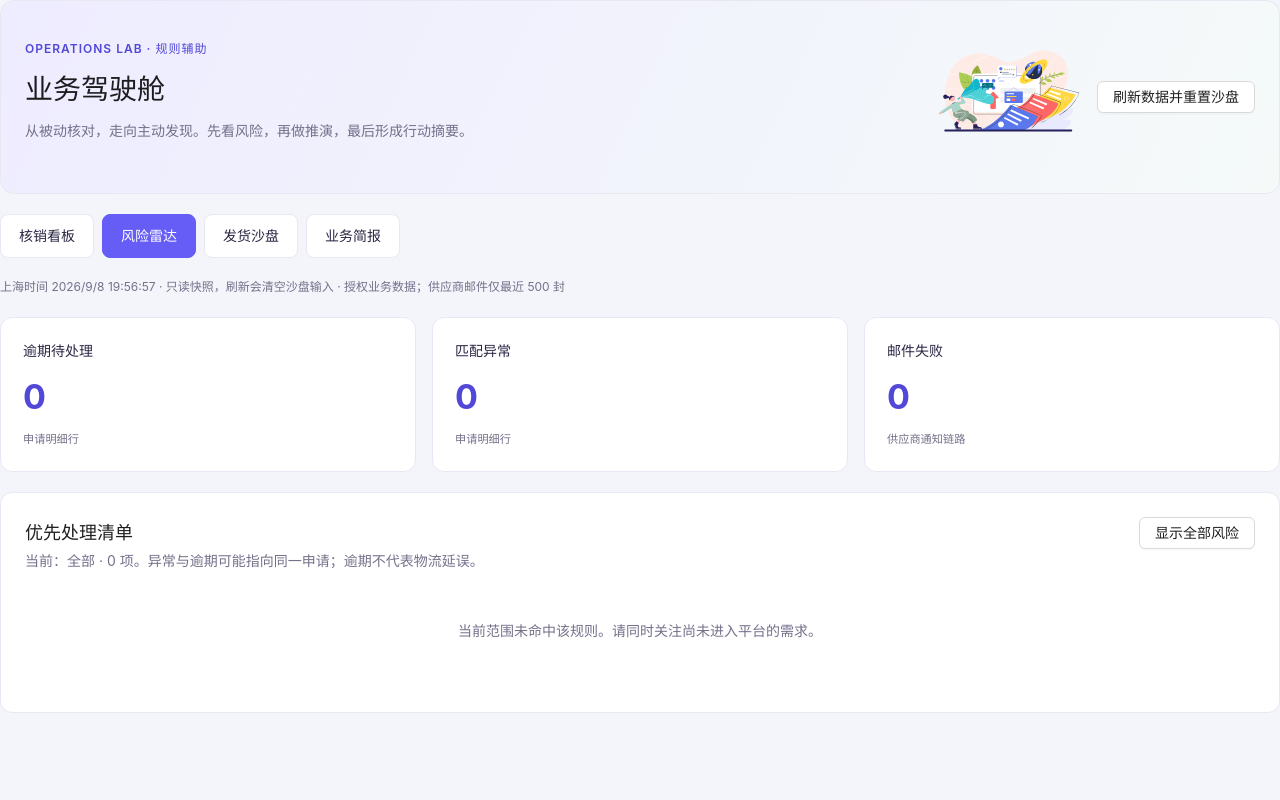
Test case: 业务驾驶舱 › simulates independent order identities and keeps hidden rows in its summary
Click the button "发货沙盘" at x=251, y=236, box [204, 214, 298, 258]
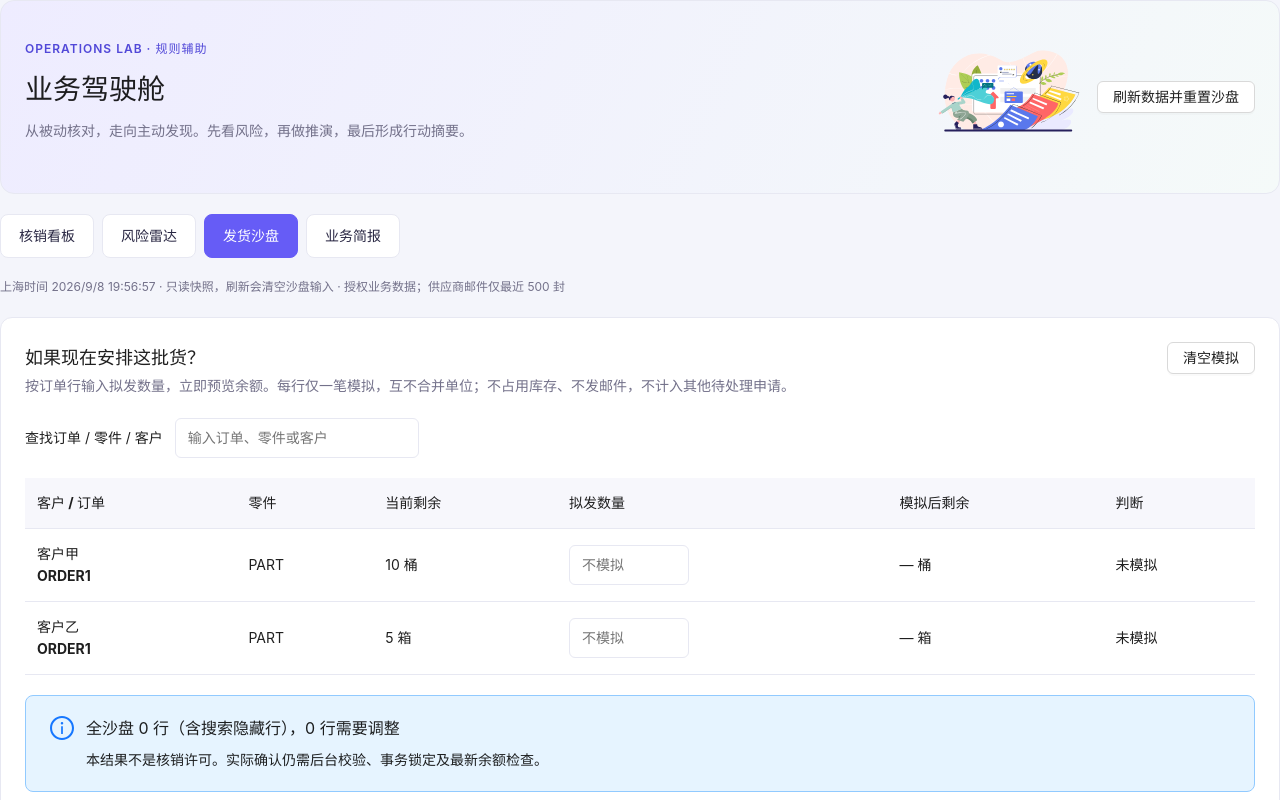
Type "11" into the field named "订单行 1 拟发数量" at x=629, y=565, box [569, 545, 689, 585]
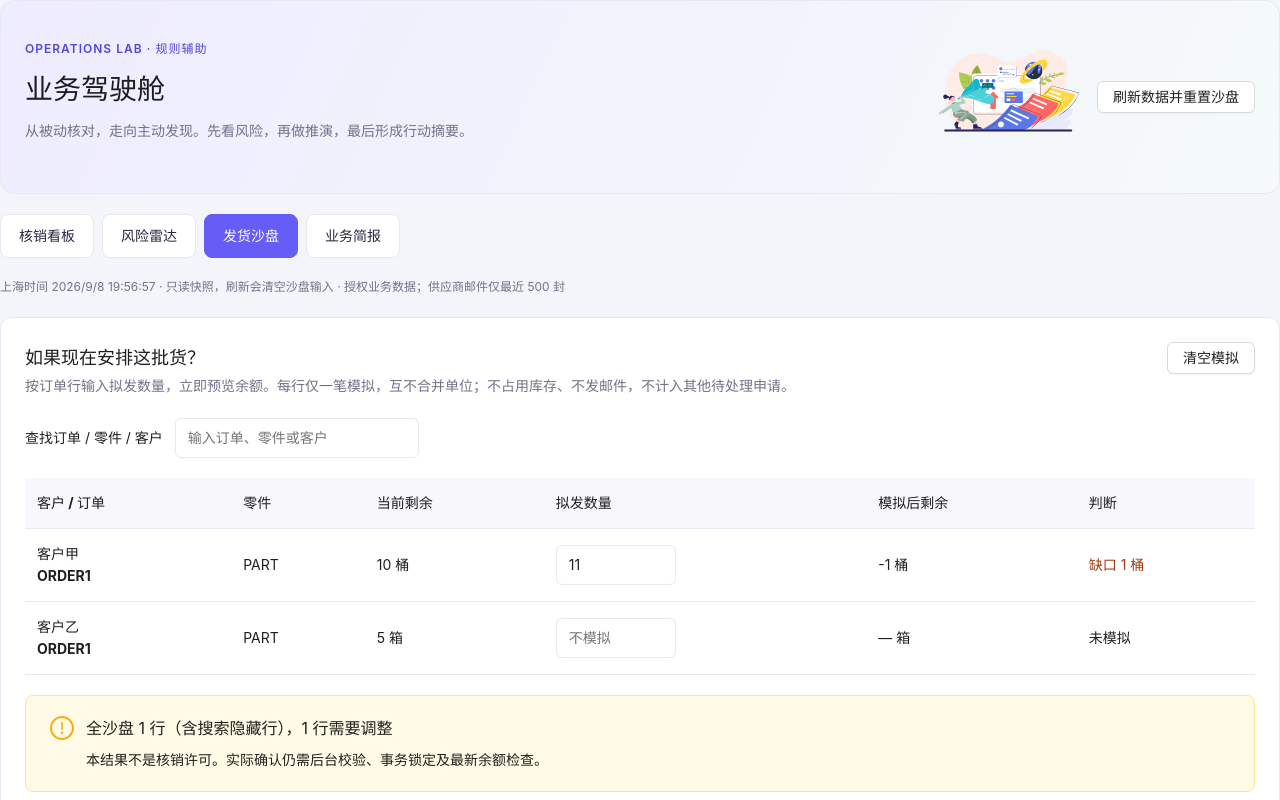
Now the field named "订单行 2 拟发数量" is empty, box [556, 618, 676, 658]
Now the text "缺口 1 桶" is shown, box [1089, 556, 1144, 573]
Type "客户乙" into the field with placeholder "输入订单、零件或客户" at x=297, y=438, box [175, 418, 419, 458]
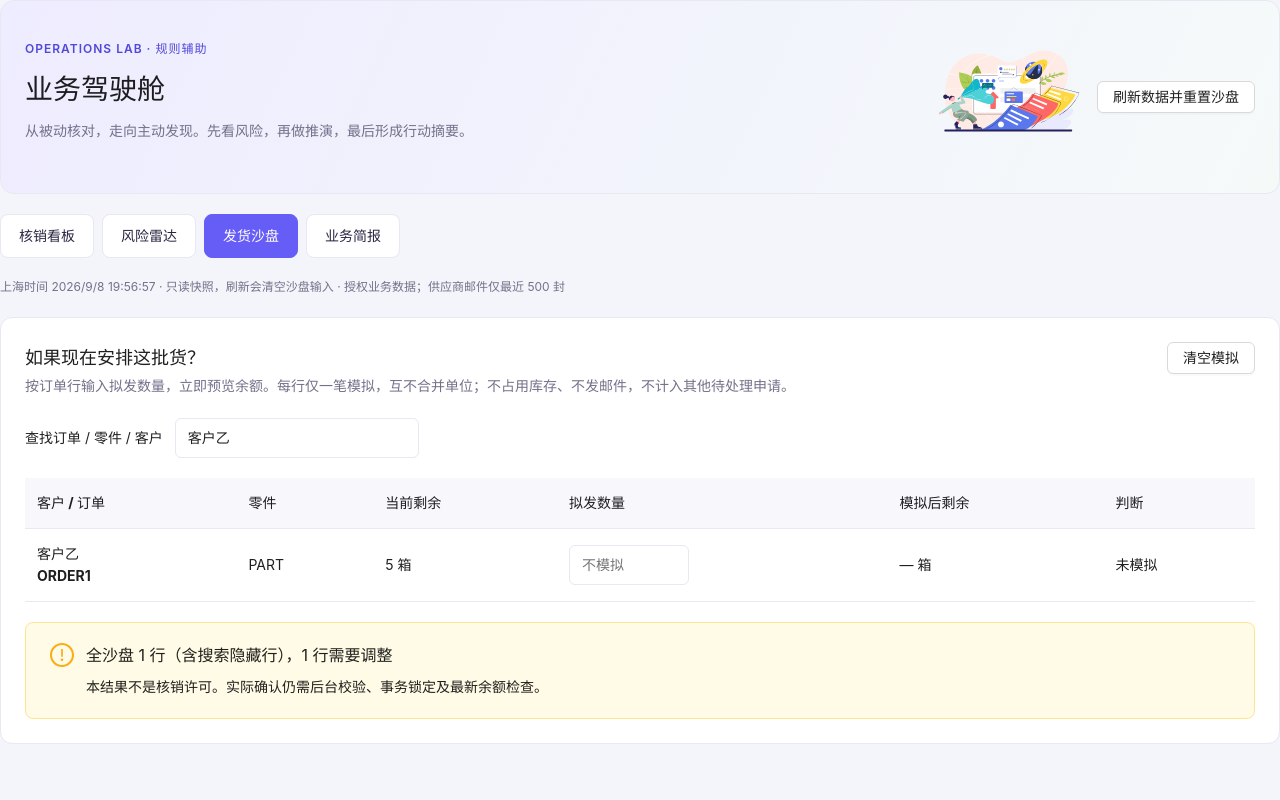
Now the text "全沙盘 1 行（含搜索隐藏行），1 行需要调整" is shown, box [86, 645, 392, 665]
Click the button "清空模拟" at x=1211, y=358, box [1167, 342, 1255, 374]
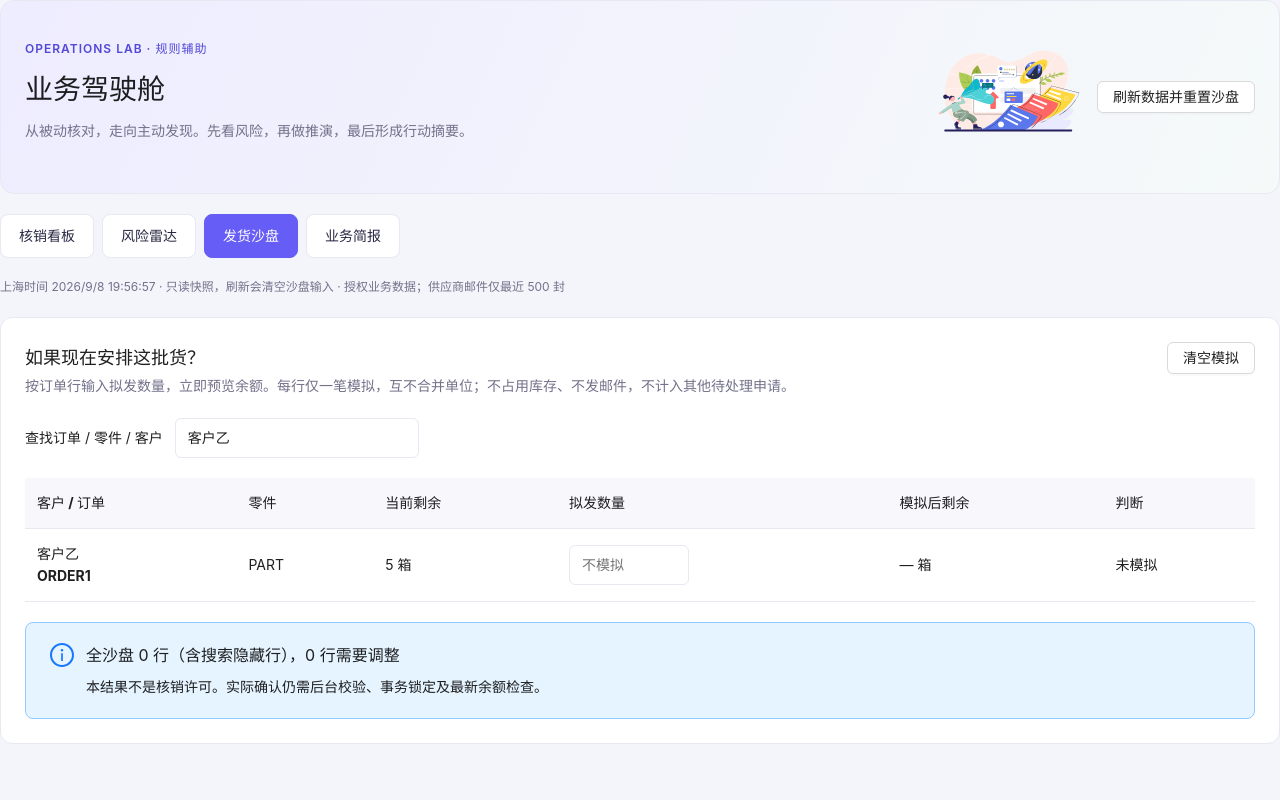
Now the text "全沙盘 0 行" is shown, box [86, 645, 400, 665]
